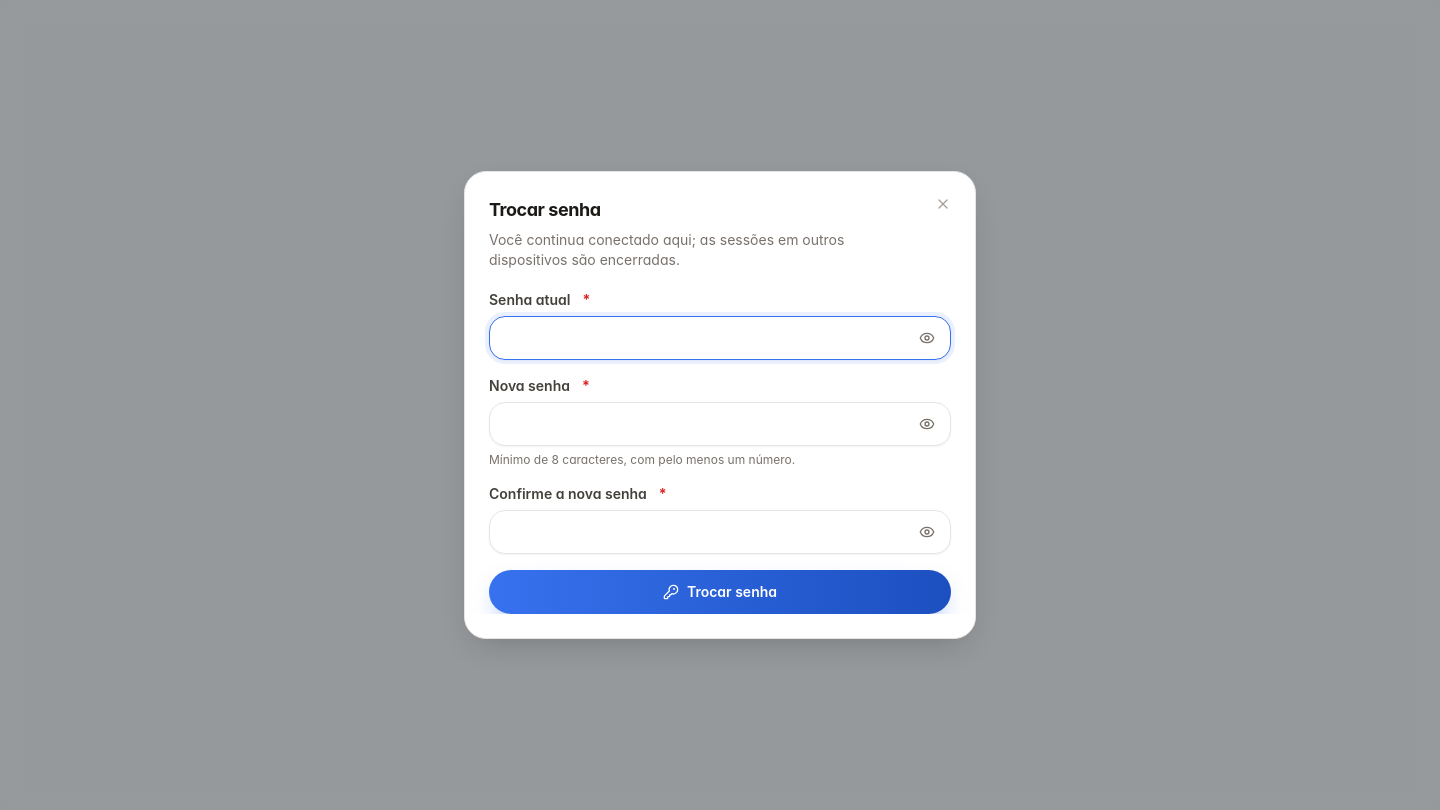
Test case: ChangePasswordModal › troca a senha e adota os tokens novos da sessão
The image size is (1440, 810).
Type "SenhaAtual1" into the password field labelled "Senha atual".
click(720, 338); type("SenhaAtual1")  # box [489, 316, 951, 360]
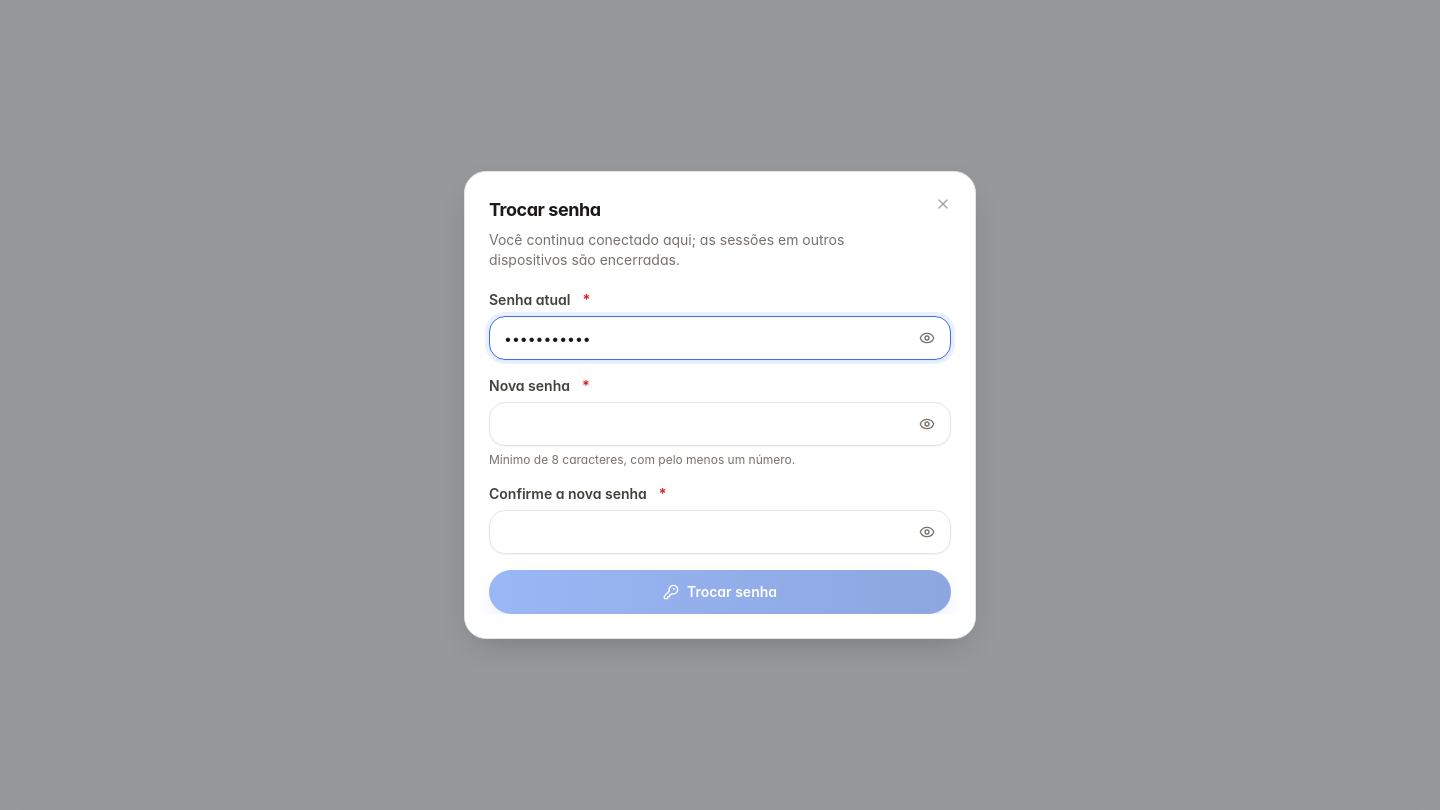
Type "SenhaNova2" into the password field labelled "Nova senha".
click(720, 424); type("SenhaNova2")  # box [489, 402, 951, 446]
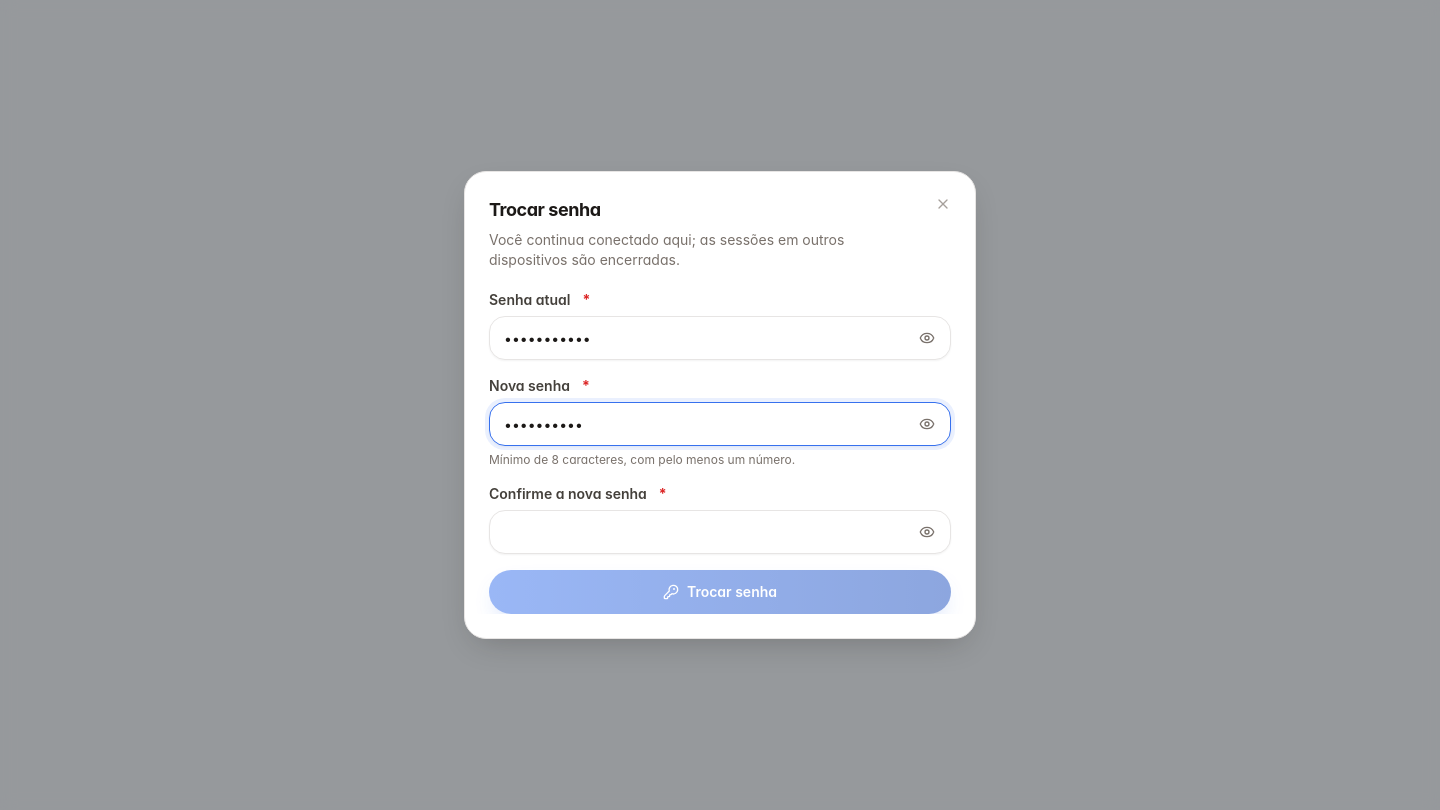
Type "SenhaNova2" into the password field labelled "Confirme a nova senha".
click(720, 532); type("SenhaNova2")  # box [489, 510, 951, 554]
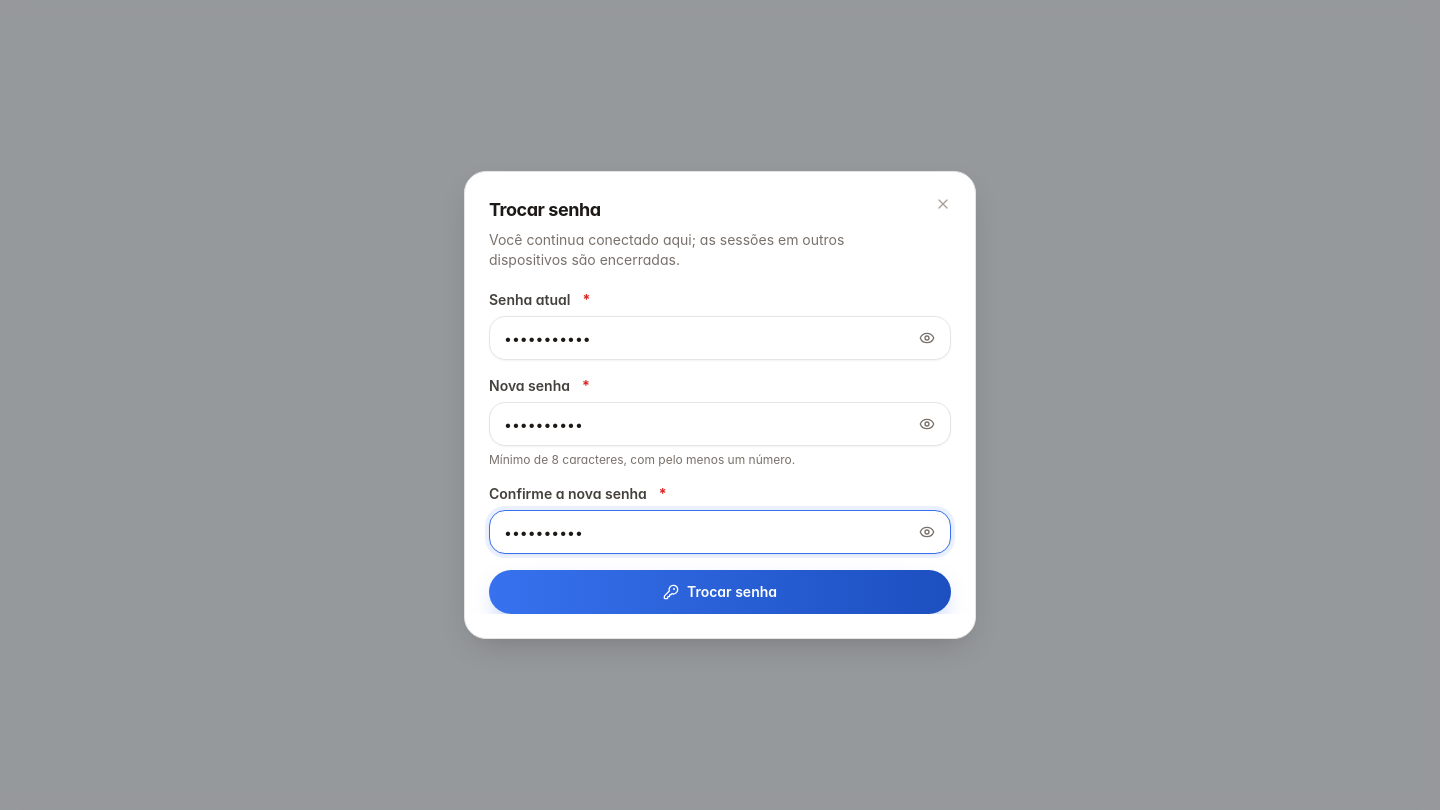
Click the button "Trocar senha".
click(720, 592)  # box [489, 570, 951, 614]
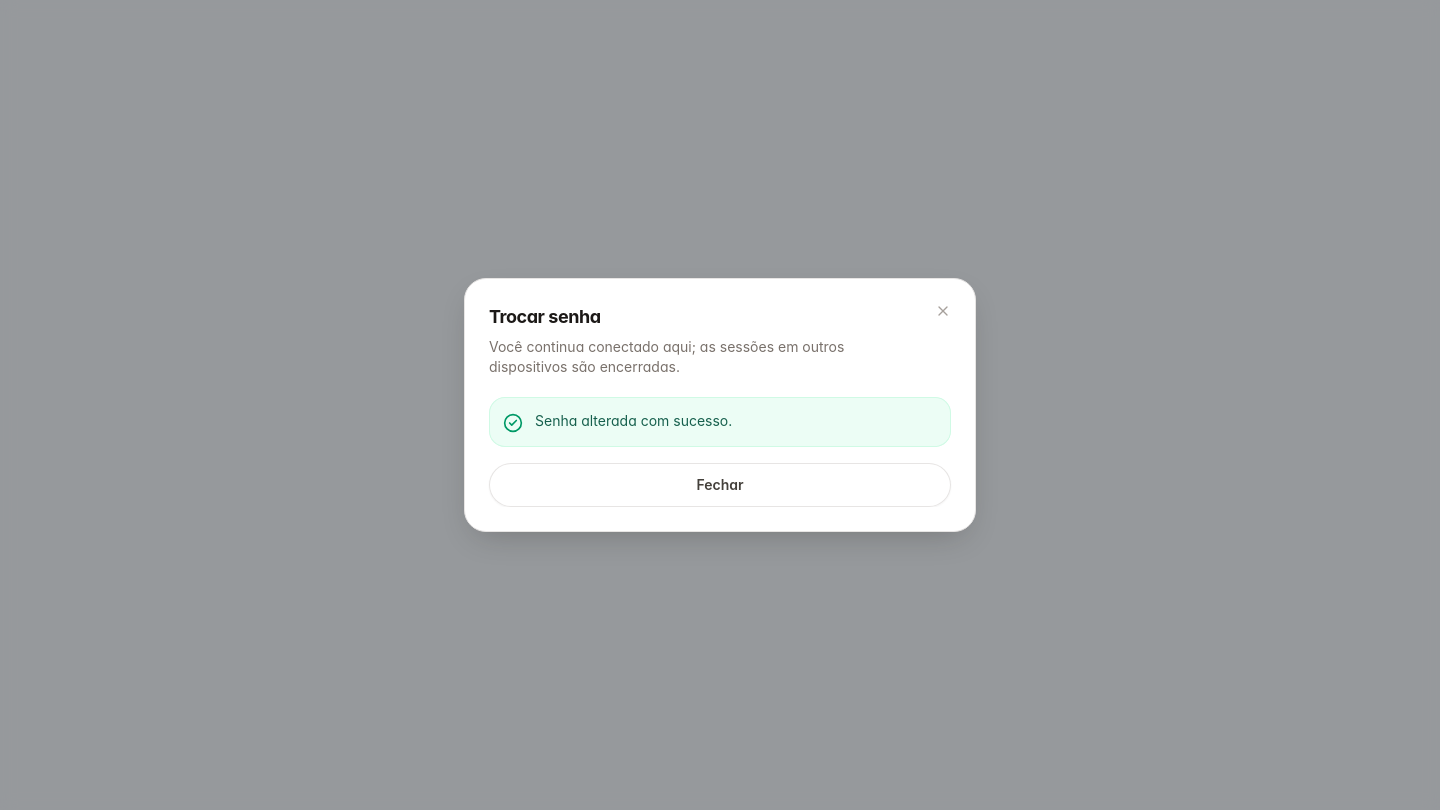
Check: the text "Senha alterada com sucesso." is shown, box [535, 411, 732, 431]
